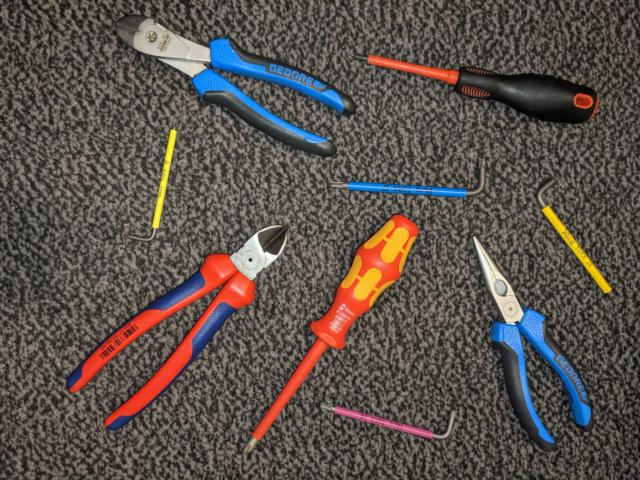Inbusschlüssel: (534, 175, 620, 303), (325, 152, 492, 206), (122, 114, 183, 246), (314, 398, 462, 446)
Schraubendreher: (236, 211, 426, 464), (349, 48, 603, 129)
Seitenschneider: (62, 221, 294, 437), (111, 11, 362, 157)
Zange: (466, 231, 599, 456)
